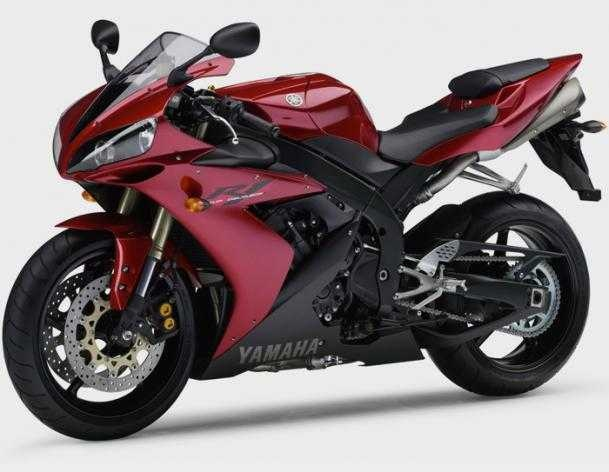motorbike: (2, 19, 607, 441)
